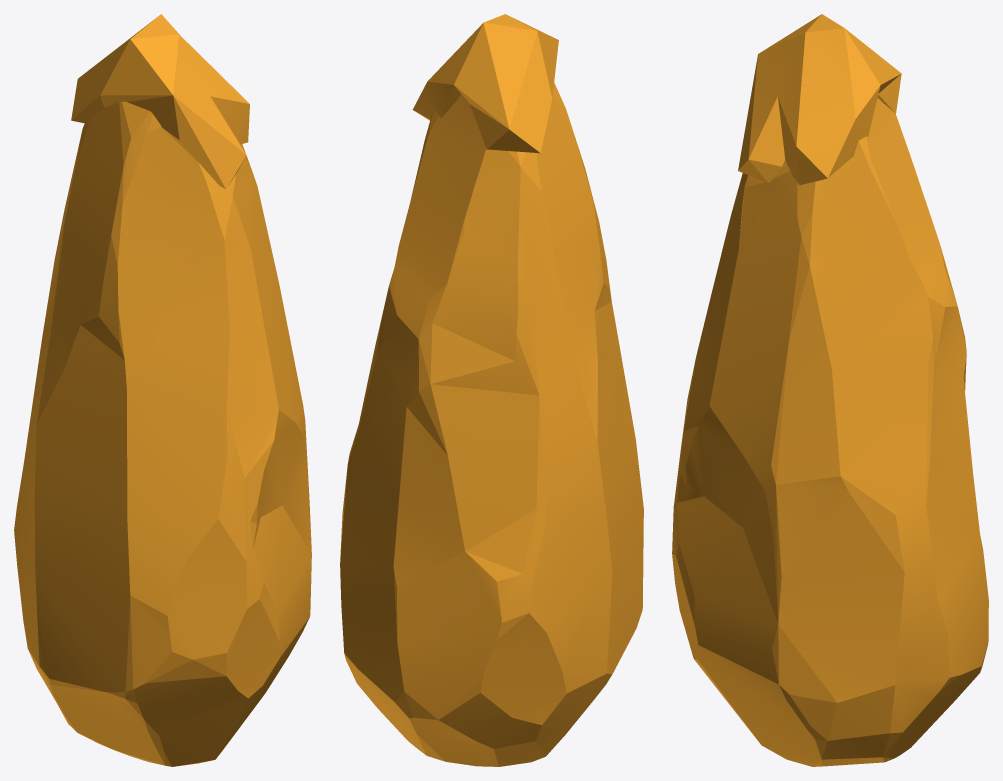
Rendered from SM_Menhir_D_Snow.fbx.
The picture shows the model from 3 angles, left to right: view 1: azimuth 30°, elevation 25°; view 2: azimuth 150°, elevation 25°; view 3: azimuth 270°, elevation 25°; orthographic projection.
Parts seen in each view (by area): view 1: menhir-d-snow; view 2: menhir-d-snow; view 3: menhir-d-snow.
Part boxes in pixels (bbox=[...]): menhir-d-snow: bbox=[14, 14, 311, 766]; menhir-d-snow: bbox=[340, 14, 643, 766]; menhir-d-snow: bbox=[672, 14, 988, 766].
Bounding box in the file's own units: 1.78 × 5 × 2.
